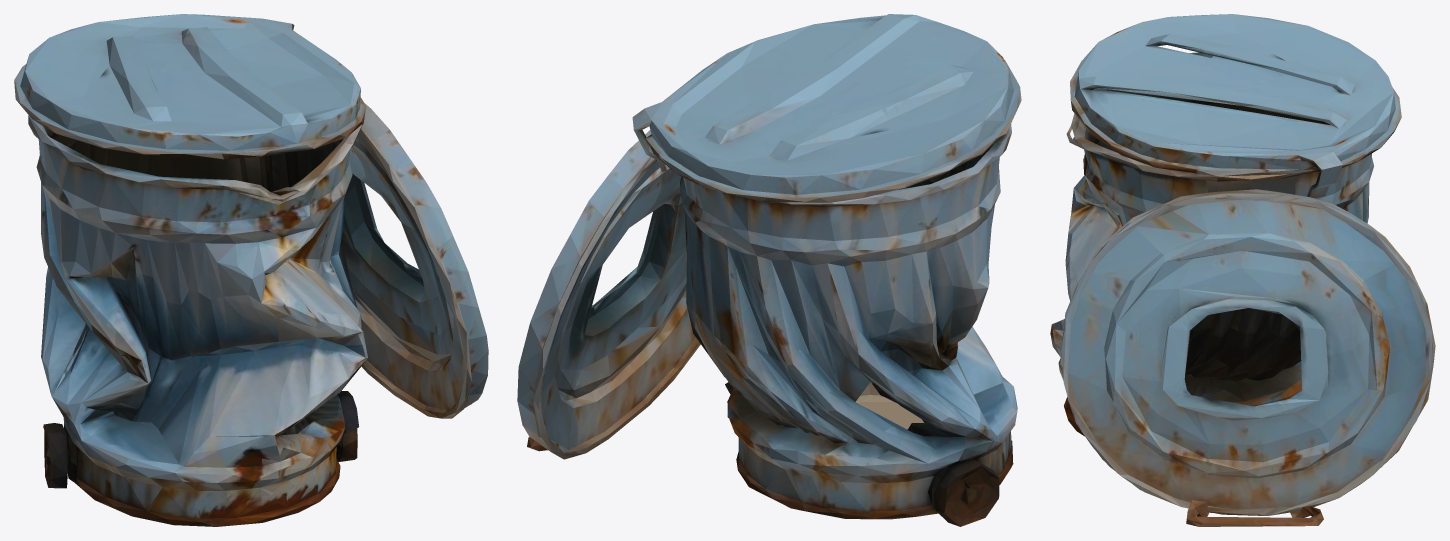
File: ch03_crushed_trash_can.glb
3 renders of one model, left to right at view 1: azimuth 30°, elevation 25°; view 2: azimuth 150°, elevation 25°; view 3: azimuth 270°, elevation 25°, orthographic. The views are drawn at different scales.
Parts seen in each view (by area): view 1: material; view 2: material; view 3: material.
Part boxes in pixels (x1,y1,x2,y2): material: (14, 14, 488, 526); material: (517, 14, 1021, 526); material: (1050, 14, 1435, 526).
Bounding box in the file's own units: 0.8863 × 0.8162 × 0.8041.
1 material, 1 textured.
